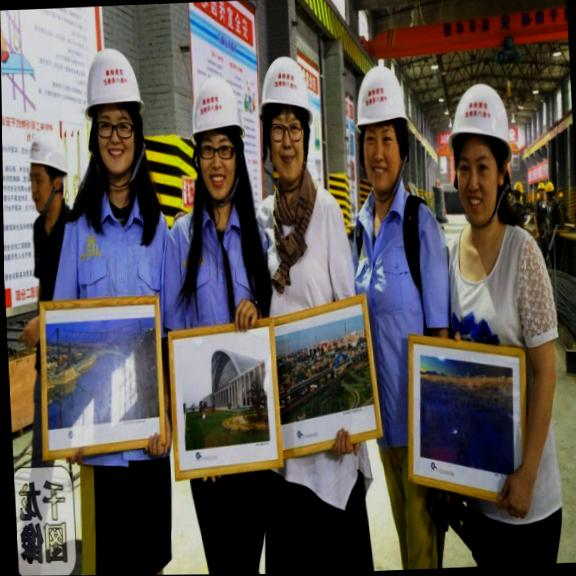no_safety_vest: (441, 228, 566, 528), (362, 185, 434, 429), (259, 167, 345, 344), (173, 208, 256, 337), (62, 207, 158, 314)
